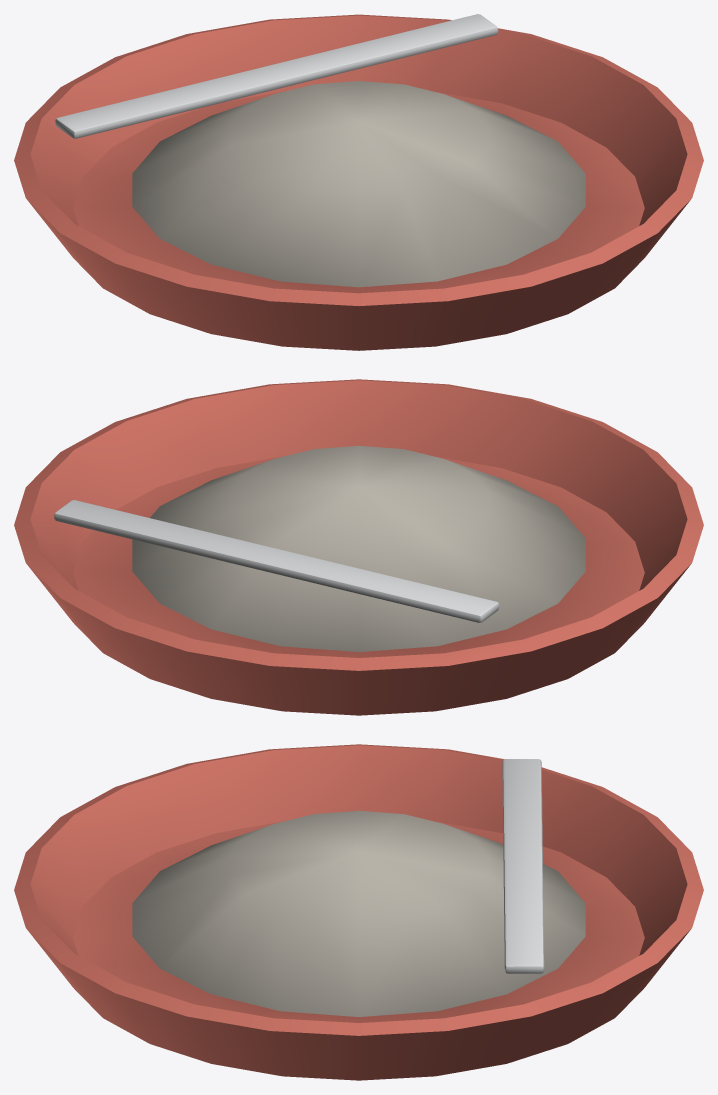
Rendered from dish_camp.glb.
3 views of the same model, one above another, from view 1: azimuth 30°, elevation 25°; view 2: azimuth 150°, elevation 25°; view 3: azimuth 270°, elevation 25° (orthographic).
Parts seen in each view (by area): view 1: PART; view 2: PART; view 3: PART.
Part boxes in pixels (x1,y1,x2,y2): PART: (14, 14, 703, 350); PART: (14, 379, 703, 715); PART: (14, 744, 703, 1080).
Size of the model in its own units: 0.21 by 0.035 by 0.21.
